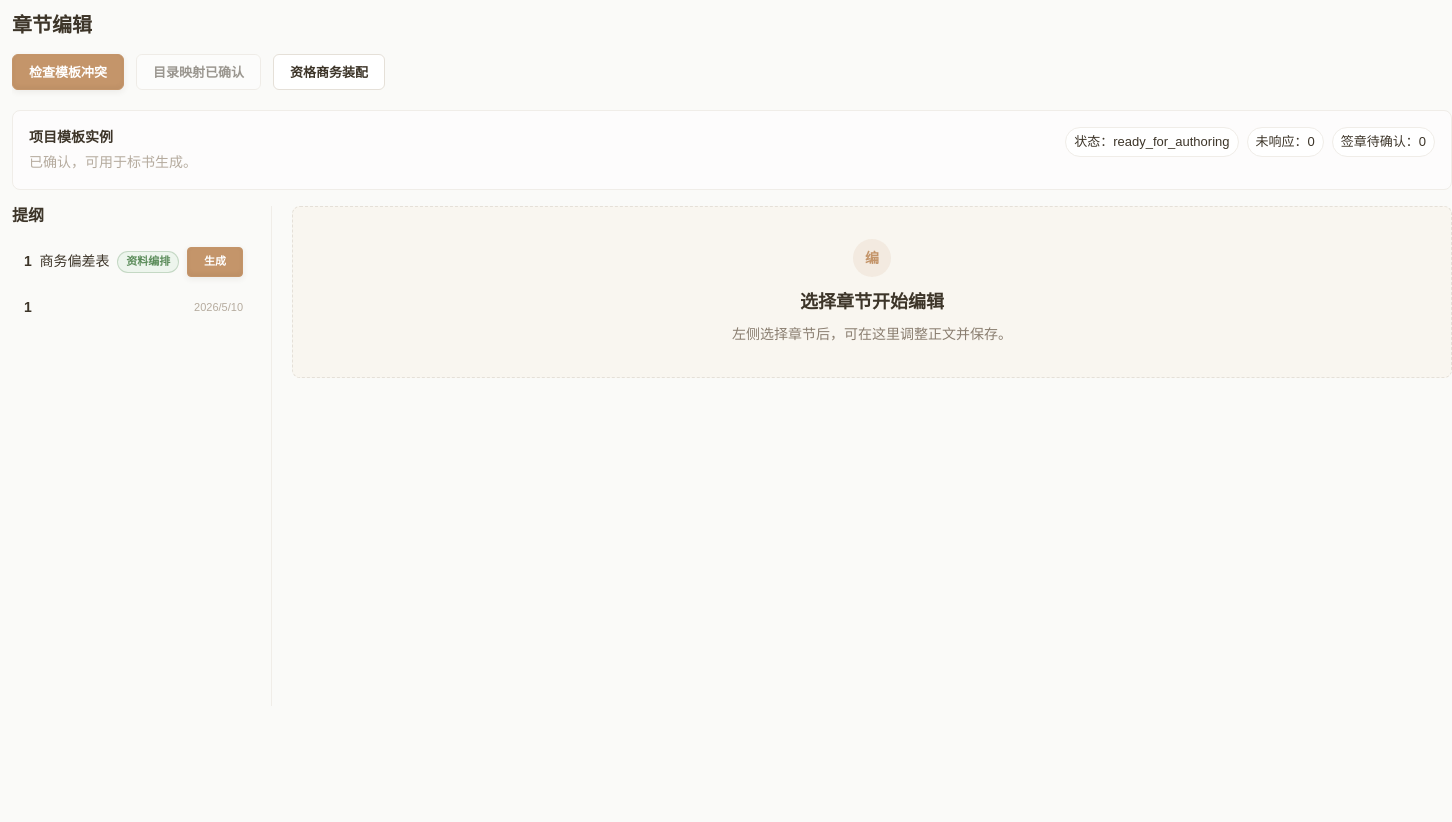
EditorContent chart workflow › uses a unified chapter directory instead of a separate business template list
Click the button "资格商务装配" at (329, 72), box [273,54,385,90]
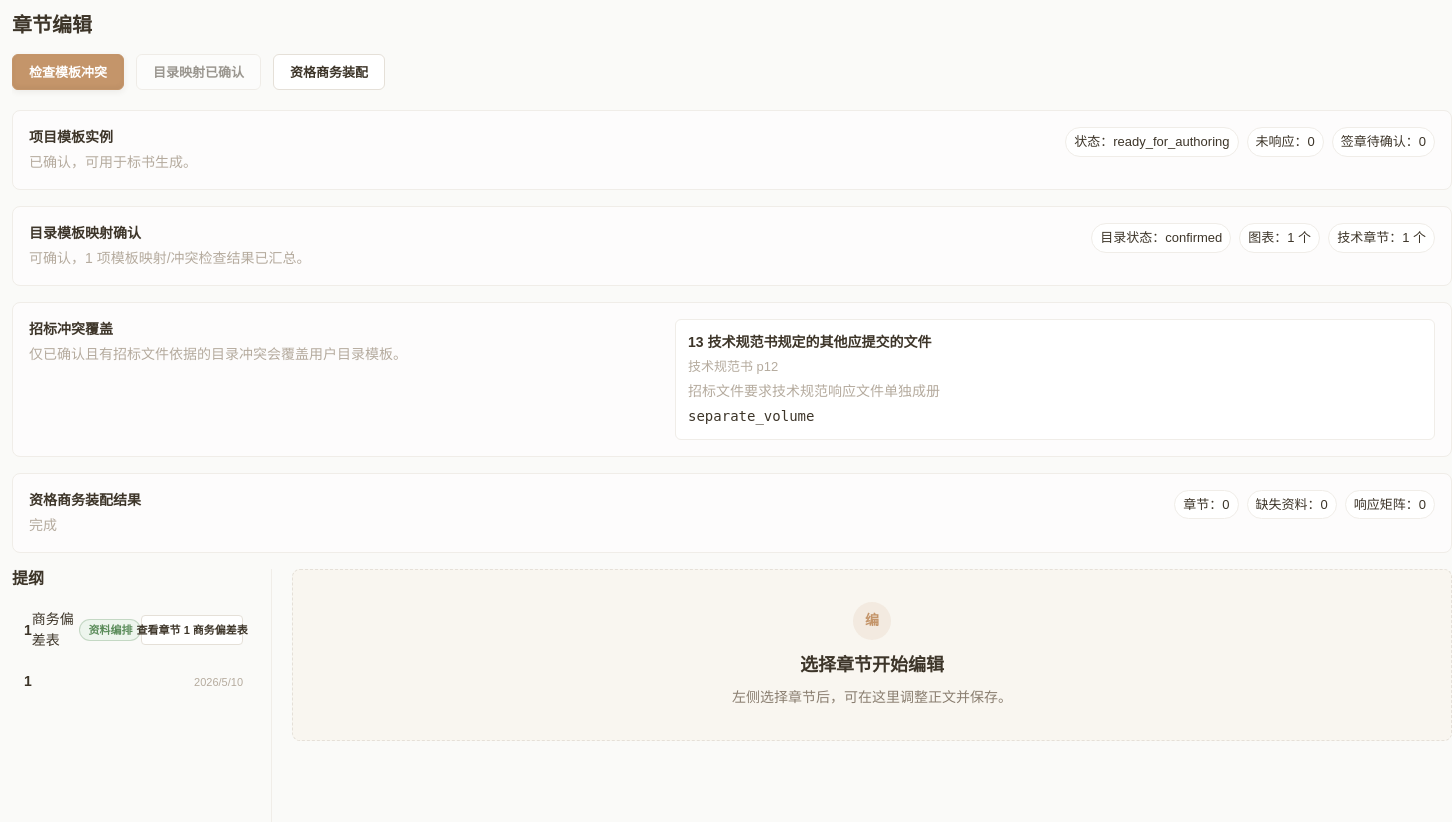
Check: the button "查看章节 1 商务偏差表" is shown, box [141,615,243,645]
